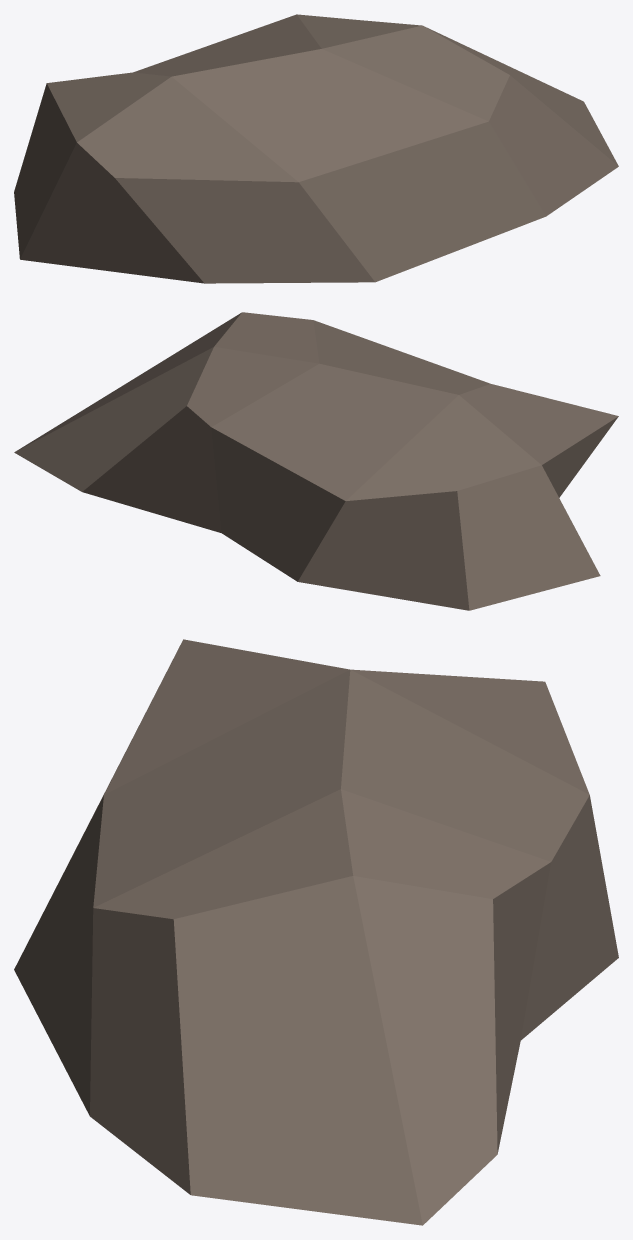
The model's file is rock_1.FBX.
3 views of the same model, one above another, from view 1: azimuth 30°, elevation 25°; view 2: azimuth 150°, elevation 25°; view 3: azimuth 270°, elevation 25° (orthographic). The views are drawn at different scales.
Parts seen in each view (by area): view 1: rock_1; view 2: rock_1; view 3: rock_1.
Part boxes in pixels (x1,y1,x2,y2): rock_1: (14,14,618,283); rock_1: (14,312,618,610); rock_1: (14,639,618,1225).
Bounding box in the file's own units: 69.28 × 16.85 × 40.32.
